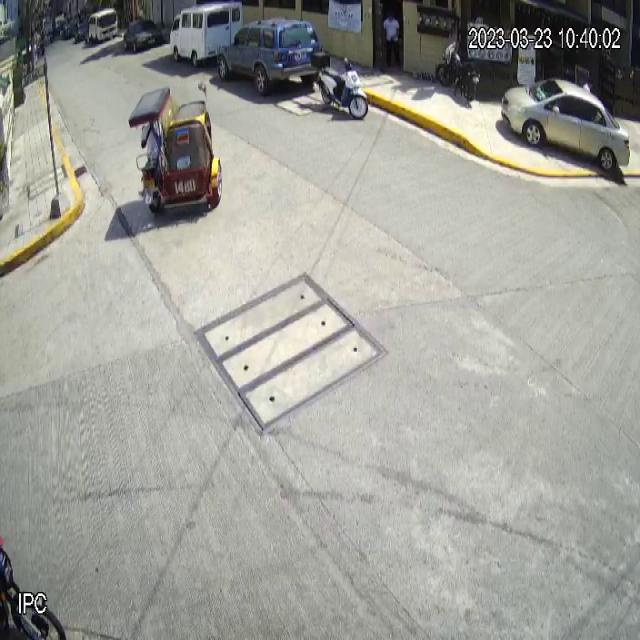Car: (500, 76, 632, 175), (216, 17, 322, 98)
Motorcycle: (311, 49, 371, 125)
Tricycle: (129, 88, 223, 215)
Van: (169, 2, 244, 68)
